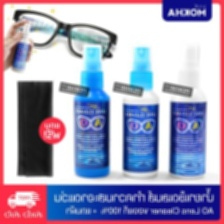cleaning_solution: (166, 40, 208, 180), (70, 43, 112, 179), (120, 44, 162, 179), (9, 20, 33, 74)
